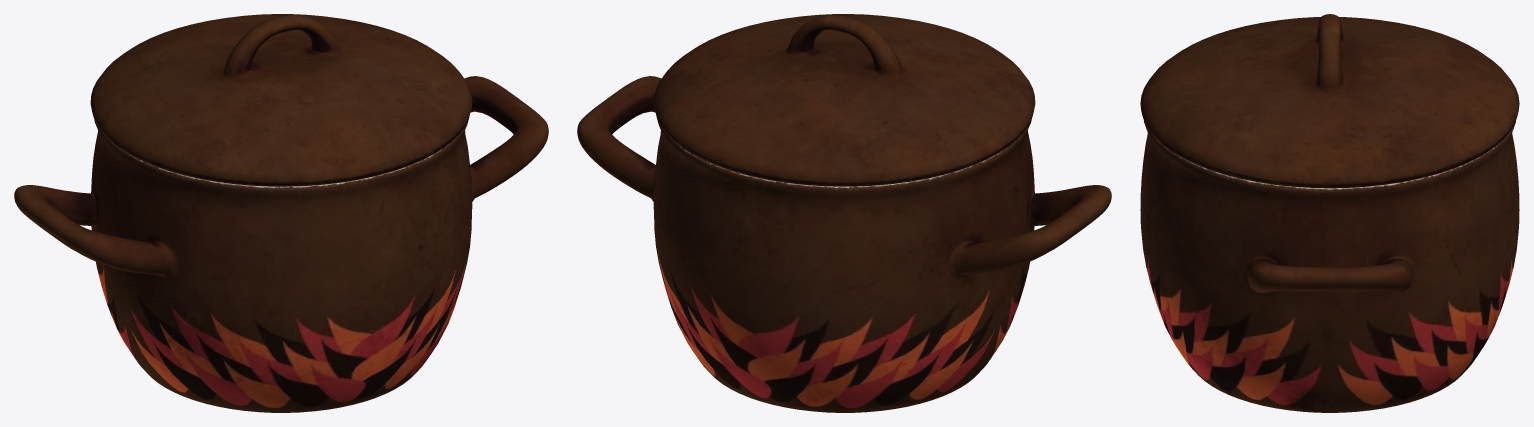
File: pot_enamel_01.glb
3 renders of one model, left to right at view 1: azimuth 30°, elevation 25°; view 2: azimuth 150°, elevation 25°; view 3: azimuth 270°, elevation 25°, orthographic.
Parts seen in each view (by area): view 1: pot_enamel_01_lid; view 2: pot_enamel_01_lid; view 3: pot_enamel_01_lid.
Part boxes in pixels (left/top/right/bottom): pot_enamel_01_lid: left=14, top=14, right=548, bottom=412; pot_enamel_01_lid: left=577, top=14, right=1111, bottom=412; pot_enamel_01_lid: left=1140, top=14, right=1519, bottom=412.
Size of the model in its own units: 0.2629 by 0.1783 by 0.1805.
Materials: 1 (1 with a texture image).
